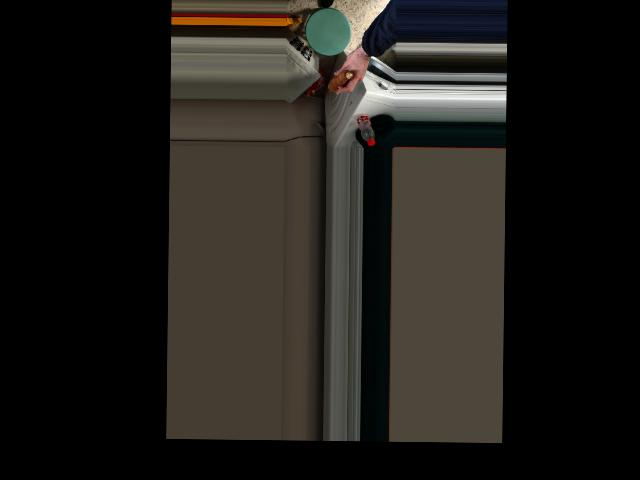sweet_potato: (329, 66, 355, 95)
